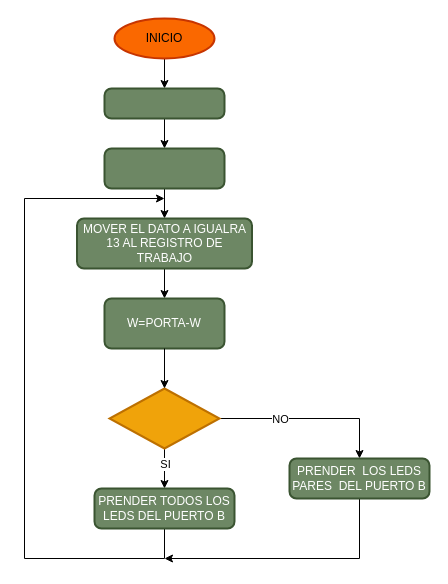
The diagram is 448 pixels wide and 584 high, and some of its shapes have lost their labels. The shapes that lost their labels are listed below. From the top down, each one's box as (x1, y1, x2, y2) in pixels, then its label:
(103, 87, 225, 119): ORG 0X00
(103, 147, 225, 189): CONFIGURAR REGISTROS
(108, 387, 220, 449): Z=1
